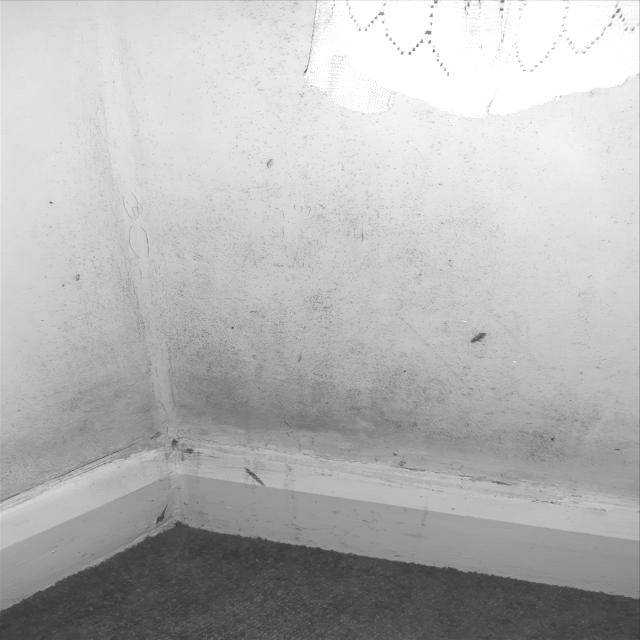stain marks: (30, 178, 640, 494), (175, 4, 553, 178), (37, 80, 195, 188), (0, 408, 112, 506)
